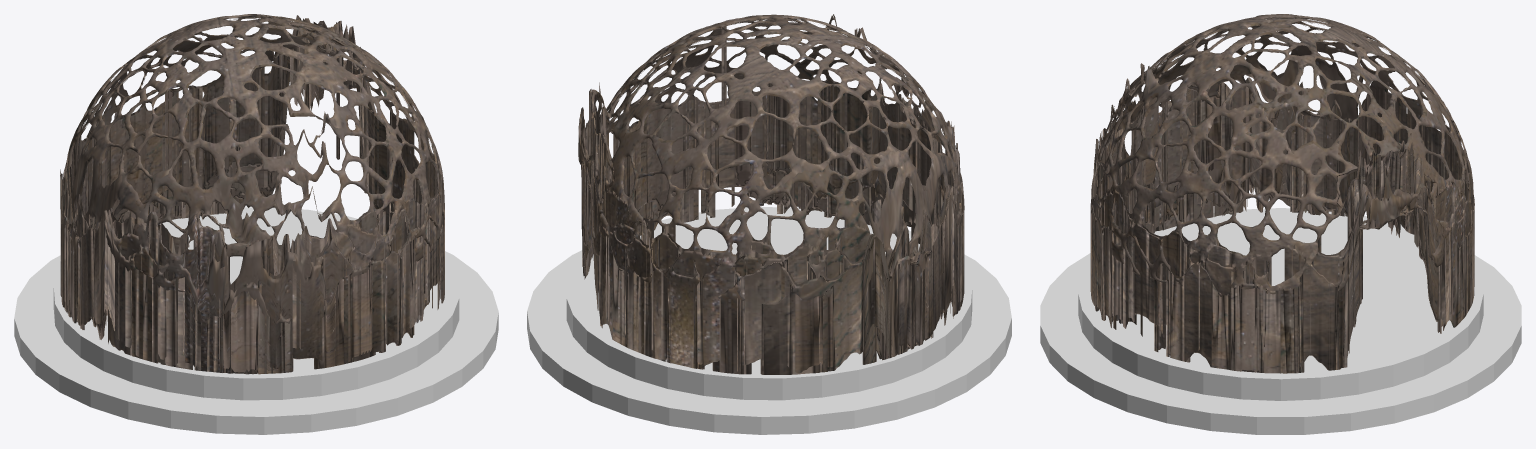
The model's file is one2.fbx.
The picture shows the model from 3 angles, left to right: view 1: azimuth 30°, elevation 25°; view 2: azimuth 150°, elevation 25°; view 3: azimuth 270°, elevation 25°; orthographic projection.
Parts seen in each view (by area): view 1: Cube, Circle.001, Circle; view 2: Cube, Circle.001, Circle; view 3: Cube, Circle, Circle.001.
Boxes of the visible parts, x1,y1,x2,y2 form: Cube: (60,14,444,374); Circle.001: (14,251,498,434); Circle: (53,207,459,400); Cube: (578,14,964,374); Circle.001: (527,250,1011,434); Circle: (566,207,972,400); Cube: (1090,14,1474,373); Circle: (1078,208,1483,400); Circle.001: (1040,253,1521,434).
Bounding box in the file's own units: 2289 × 1574 × 2289.
